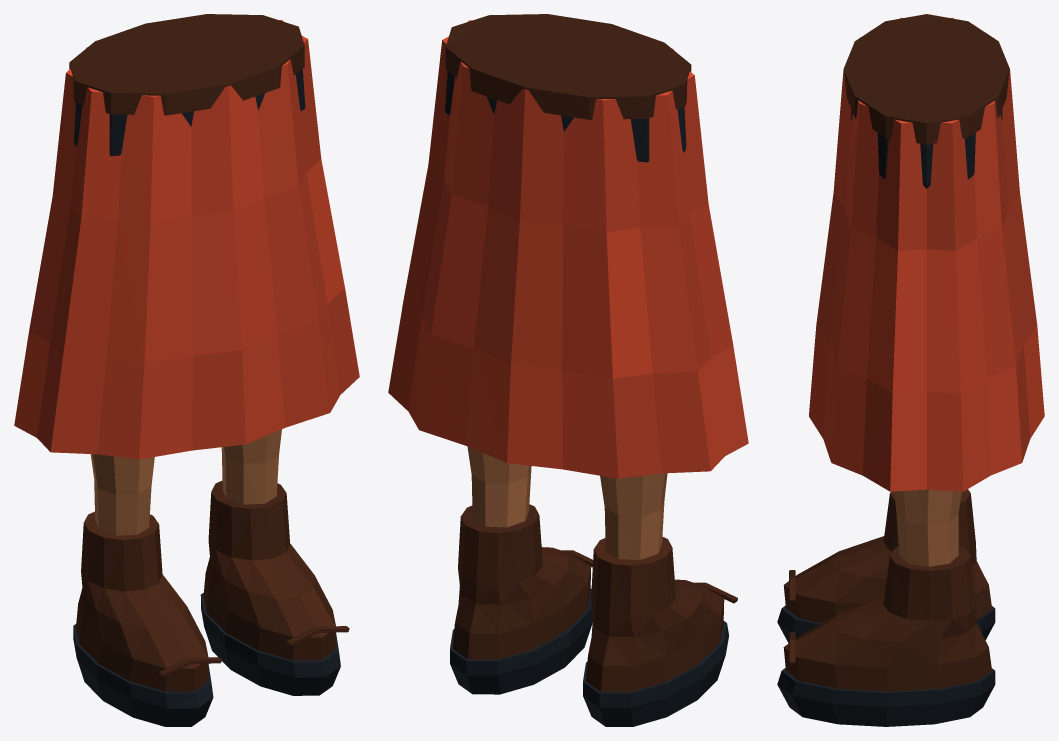
Rendered from EP_Lower_PleatedSkirt.fbx.
3 renders of one model, left to right at view 1: azimuth 30°, elevation 25°; view 2: azimuth 150°, elevation 25°; view 3: azimuth 270°, elevation 25°, orthographic. The views are drawn at different scales.
Parts seen in each view (by area): view 1: EP_Lower_PleatedSkirt; view 2: EP_Lower_PleatedSkirt; view 3: EP_Lower_PleatedSkirt.
Part boxes in pixels (bbox=[...]): EP_Lower_PleatedSkirt: bbox=[14, 14, 359, 726]; EP_Lower_PleatedSkirt: bbox=[388, 14, 748, 726]; EP_Lower_PleatedSkirt: bbox=[777, 14, 1044, 726].
Size of the model in its own units: 0.4945 by 0.928 by 0.3703.
